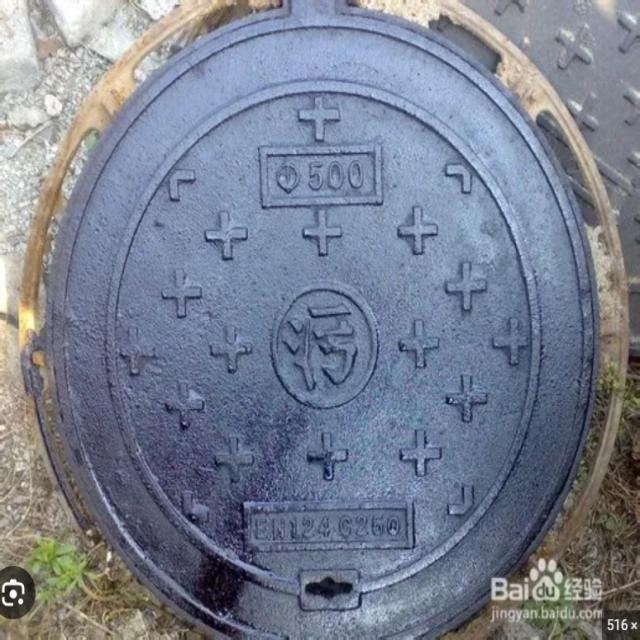manhole: (41, 0, 596, 640)
